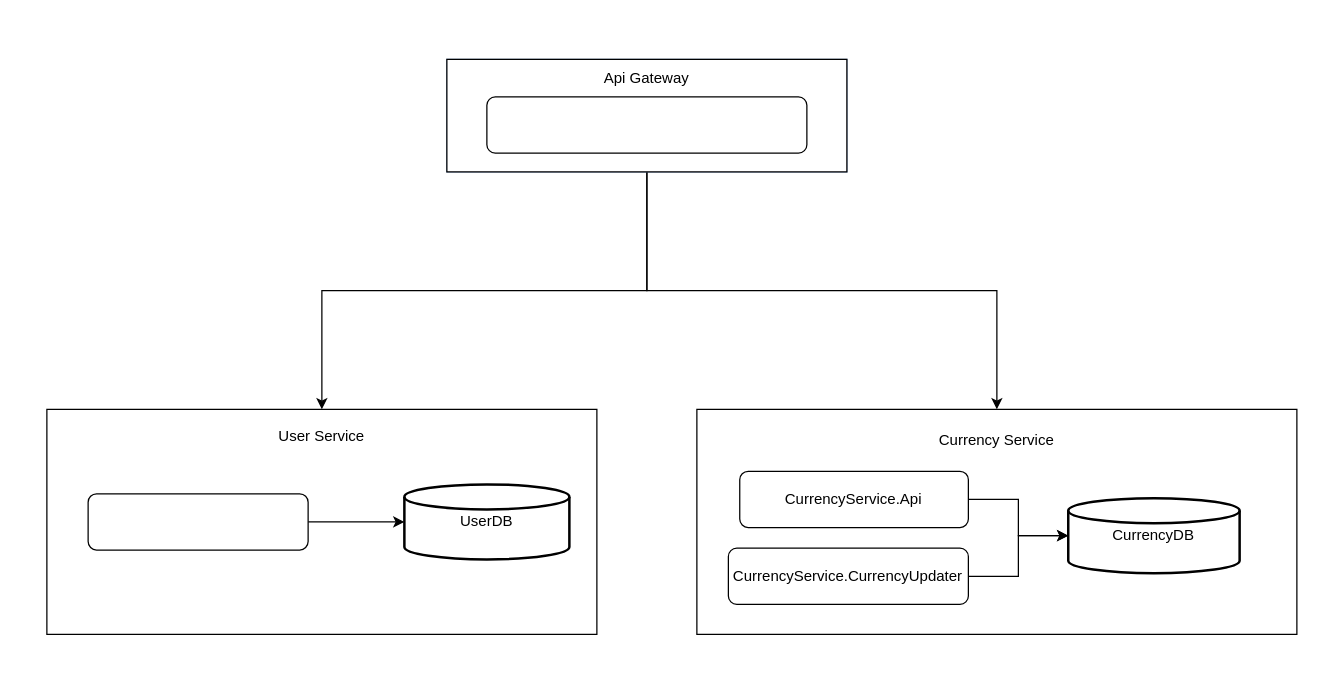
Some shapes in this 1344 by 694 pixel diagram are drawn without their labels. Here are the shapes that lost their labels. From the top down, the box of each, then its label:
(486, 96, 807, 153): Gateway.Api
(87, 492, 308, 550): UserService.Api
